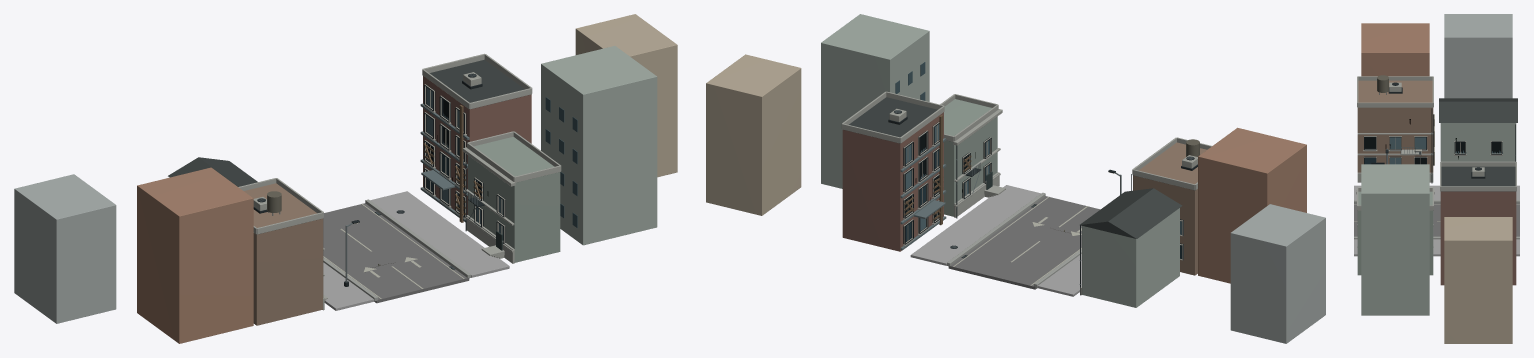
The model's file is city_hd_20.glb.
3 renders of one model, left to right at view 1: azimuth 30°, elevation 25°; view 2: azimuth 150°, elevation 25°; view 3: azimuth 270°, elevation 25°, orthographic. The views are drawn at different scales.
Parts seen in each view (by area): view 1: CITY_realwall_a3aea6, Background city building, Background city building.001, Masonry apartment volume, CITY_PBR_asphalt, Narrow townhouse volume.001, Background city building.003, CITY_trim, CITY_PBR_pavement, Modern apartment main volume, CITY_tank, CITY_recess (+8 smaller); view 2: CITY_realwall_a3aea6, Background city building.003, Background city building.001, Background city building, Modern apartment main volume, CITY_PBR_asphalt, CITY_tank, CITY_PBR_pavement, CITY_trim, Narrow townhouse volume.001, Masonry apartment volume, CITY_recess (+7 smaller); view 3: CITY_realwall_a3aea6, Background city building.003, Background city building.001, Masonry apartment volume, Background city building, CITY_tank, Modern apartment main volume, CITY_trim, Narrow townhouse volume.001, CITY_recess, CITY_PBR_asphalt, CITY_PBR_pavement (+6 smaller).
Boxes of the visible parts, left/top/right/bottom form: CITY_realwall_a3aea6: left=541, top=46, right=657, bottom=245; Background city building: left=137, top=167, right=253, bottom=343; Background city building.001: left=14, top=174, right=116, bottom=323; Masonry apartment volume: left=244, top=183, right=323, bottom=325; CITY_PBR_asphalt: left=323, top=203, right=469, bottom=303; Narrow townhouse volume.001: left=468, top=136, right=560, bottom=262; Background city building.003: left=575, top=14, right=677, bottom=177; CITY_trim: left=238, top=53, right=561, bottom=310; CITY_PBR_pavement: left=323, top=191, right=509, bottom=310; Modern apartment main volume: left=423, top=76, right=531, bottom=214; CITY_tank: left=168, top=59, right=528, bottom=234; CITY_recess: left=424, top=84, right=505, bottom=243; CITY_realwall_a3aea6: left=821, top=14, right=1179, bottom=307; Background city building.003: left=706, top=54, right=801, bottom=215; Background city building.001: left=1230, top=204, right=1325, bottom=343; Background city building: left=1198, top=127, right=1306, bottom=283; Modern apartment main volume: left=842, top=112, right=943, bottom=251; CITY_PBR_asphalt: left=948, top=196, right=1100, bottom=289; CITY_tank: left=849, top=97, right=1195, bottom=238; CITY_PBR_pavement: left=910, top=185, right=1081, bottom=296; CITY_trim: left=841, top=91, right=1211, bottom=295; Narrow townhouse volume.001: left=944, top=99, right=997, bottom=216; Masonry apartment volume: left=1133, top=142, right=1206, bottom=275; CITY_recess: left=903, top=122, right=1183, bottom=260; CITY_realwall_a3aea6: left=1361, top=123, right=1516, bottom=315; Background city building.003: left=1444, top=217, right=1512, bottom=343; Background city building.001: left=1444, top=14, right=1512, bottom=98; Masonry apartment volume: left=1357, top=80, right=1433, bottom=172; Background city building: left=1361, top=23, right=1429, bottom=76; CITY_tank: left=1439, top=98, right=1517, bottom=186; Modern apartment main volume: left=1440, top=191, right=1516, bottom=285; CITY_trim: left=1356, top=76, right=1516, bottom=247; Narrow townhouse volume.001: left=1357, top=191, right=1433, bottom=275; CITY_recess: left=1364, top=114, right=1502, bottom=165; CITY_PBR_asphalt: left=1354, top=203, right=1519, bottom=236; CITY_PBR_pavement: left=1354, top=185, right=1519, bottom=256.
Size of the model in its own units: 56 by 13.26 by 16.
